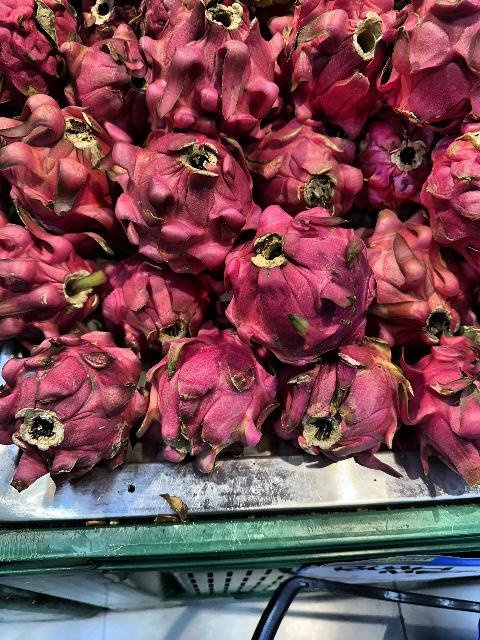buah-naga-belum-matang: (280, 332, 408, 466)
buah-naga-matang: (218, 202, 374, 362), (116, 112, 260, 274), (11, 330, 141, 490), (138, 0, 276, 138), (0, 89, 120, 233), (150, 334, 274, 472), (276, 0, 394, 144), (360, 210, 470, 350), (0, 212, 106, 348), (253, 117, 365, 221), (388, 0, 480, 124), (406, 331, 480, 484), (414, 111, 480, 253), (106, 256, 212, 344), (0, 0, 84, 100), (66, 41, 148, 120)
